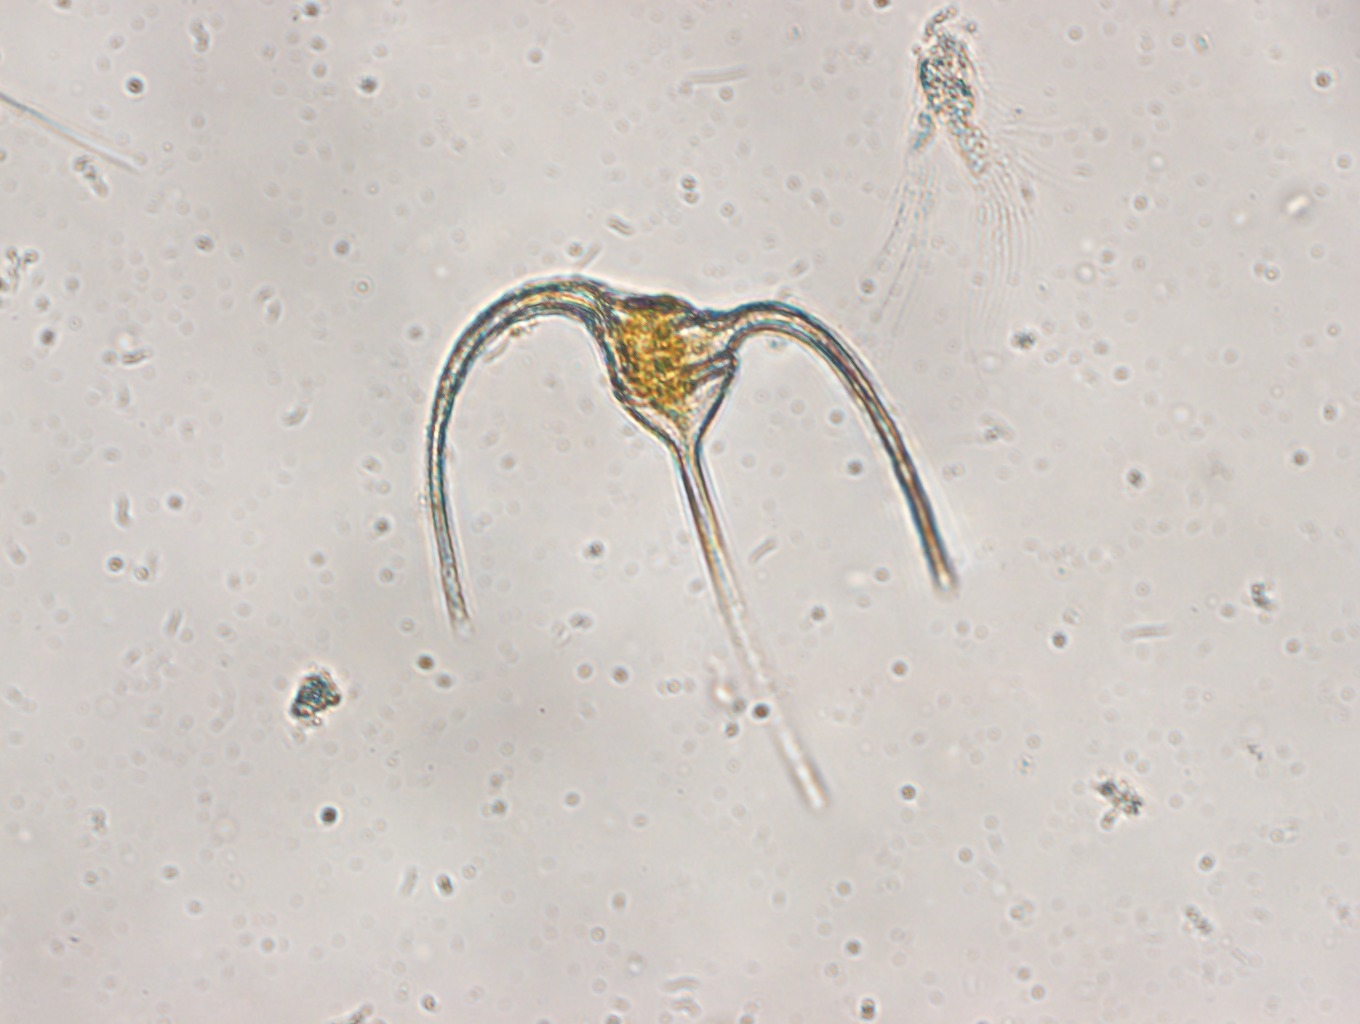ceratium trichoceros: (409, 268, 961, 817)
